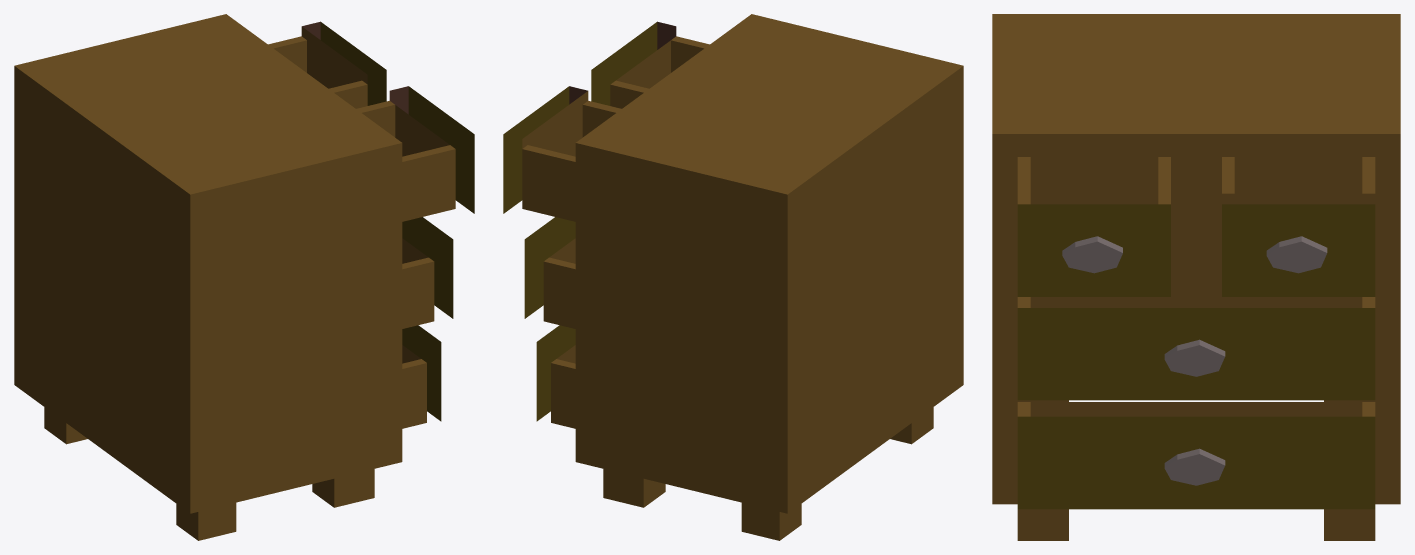
Rendered from obj_drawers_8_0.obj.
The picture shows the model from 3 angles, left to right: view 1: azimuth 30°, elevation 25°; view 2: azimuth 150°, elevation 25°; view 3: azimuth 270°, elevation 25°; orthographic projection. The views are drawn at different scales.
Bounding box in the file's own units: 1 × 1.12 × 1.
